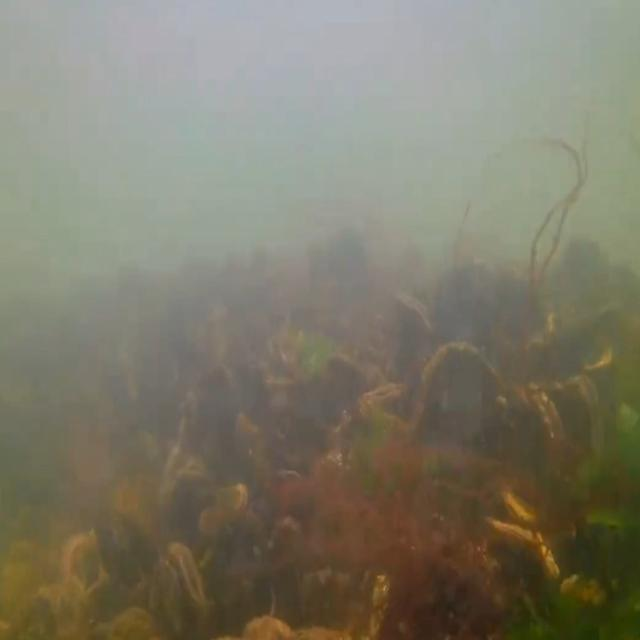Oyster-Closed: (484, 515, 565, 576), (395, 293, 437, 379), (503, 488, 552, 525), (363, 382, 412, 412), (215, 484, 253, 515)
Oyster-Indeterminate: (418, 343, 514, 448), (188, 368, 240, 474), (552, 378, 608, 463), (521, 380, 565, 454)
Oyster-Open: (154, 542, 212, 640)
